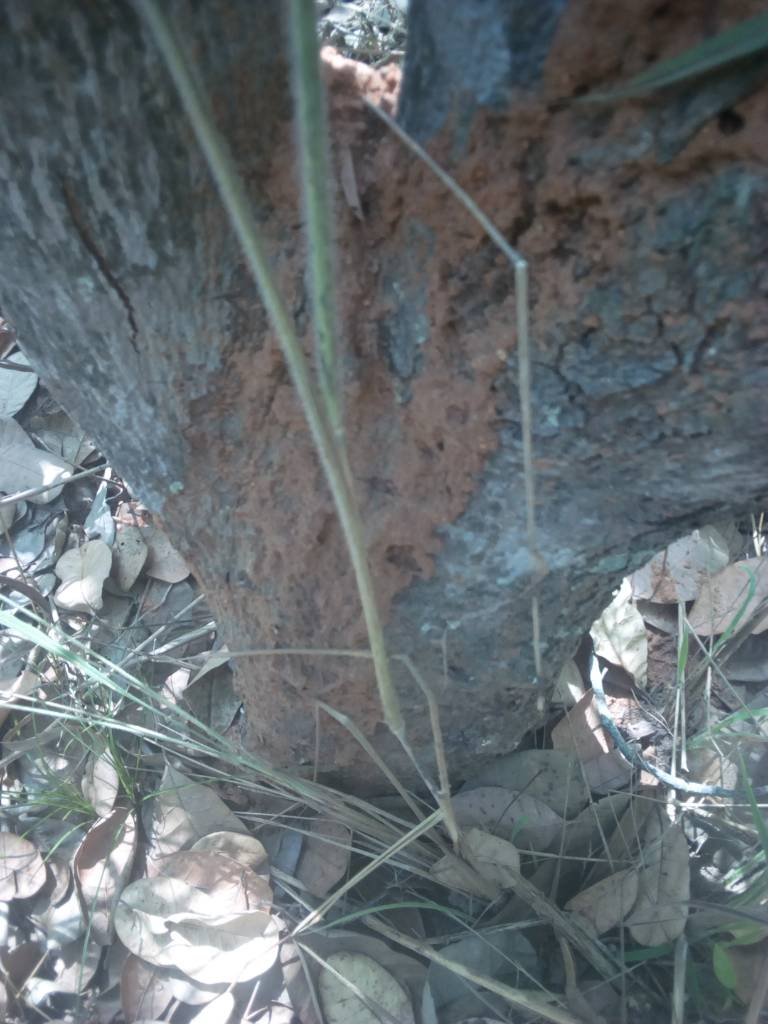Termites: (344, 225, 502, 539), (197, 446, 338, 722)
